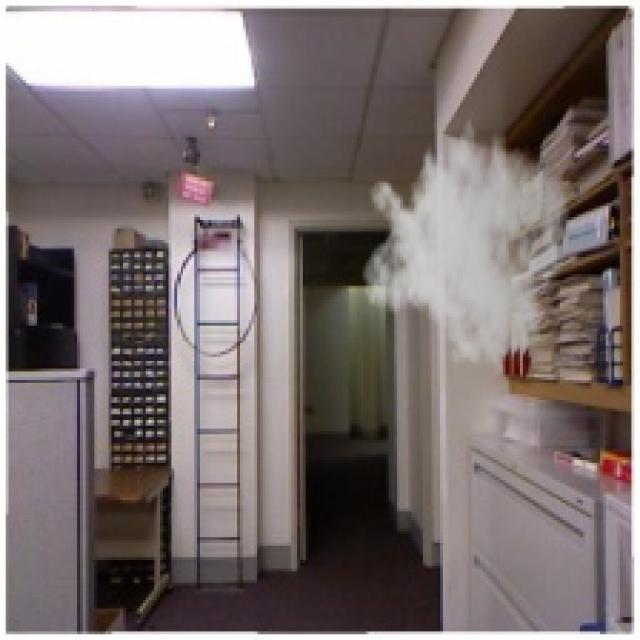smoke: (360, 103, 571, 377)
